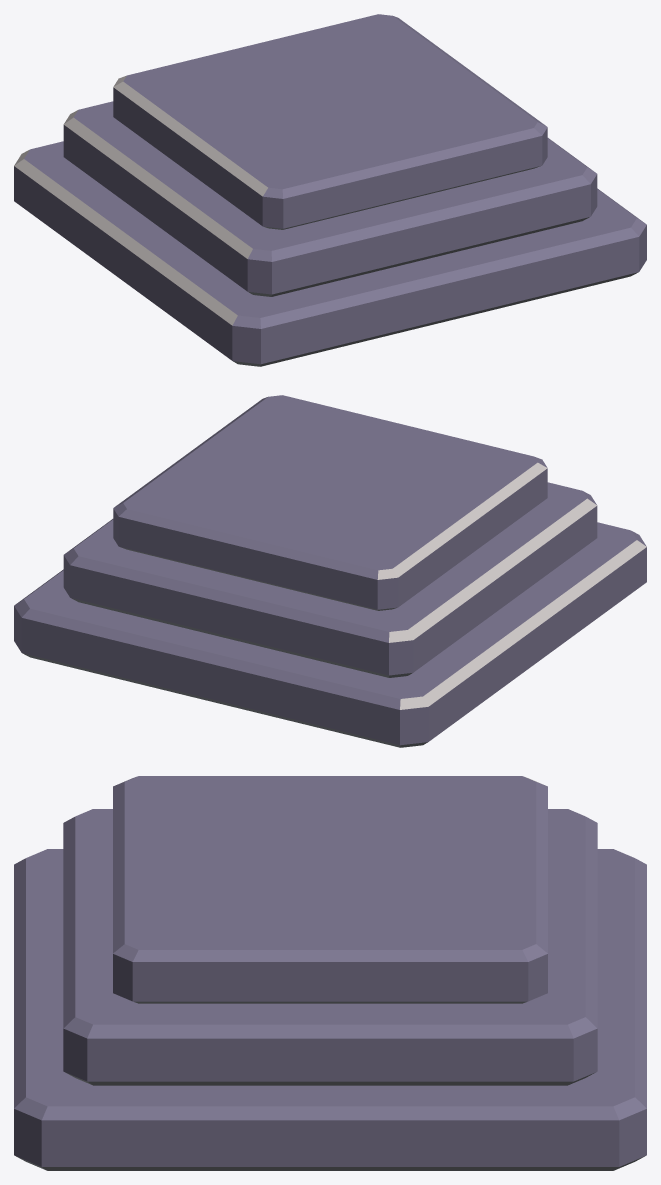
The model's file is pedestal.glb.
3 renders of one model, top to bottom at view 1: azimuth 30°, elevation 25°; view 2: azimuth 150°, elevation 25°; view 3: azimuth 270°, elevation 25°, orthographic. The views are drawn at different scales.
Parts seen in each view (by area): view 1: pedestal; view 2: pedestal; view 3: pedestal.
Part boxes in pixels (x1=…): pedestal: x1=14, y1=14, x2=646, y2=366; pedestal: x1=14, y1=395, x2=646, y2=747; pedestal: x1=14, y1=776, x2=646, y2=1170.
Size of the model in its own units: 1.6 by 0.5 by 1.6.
1 material, 1 textured.
